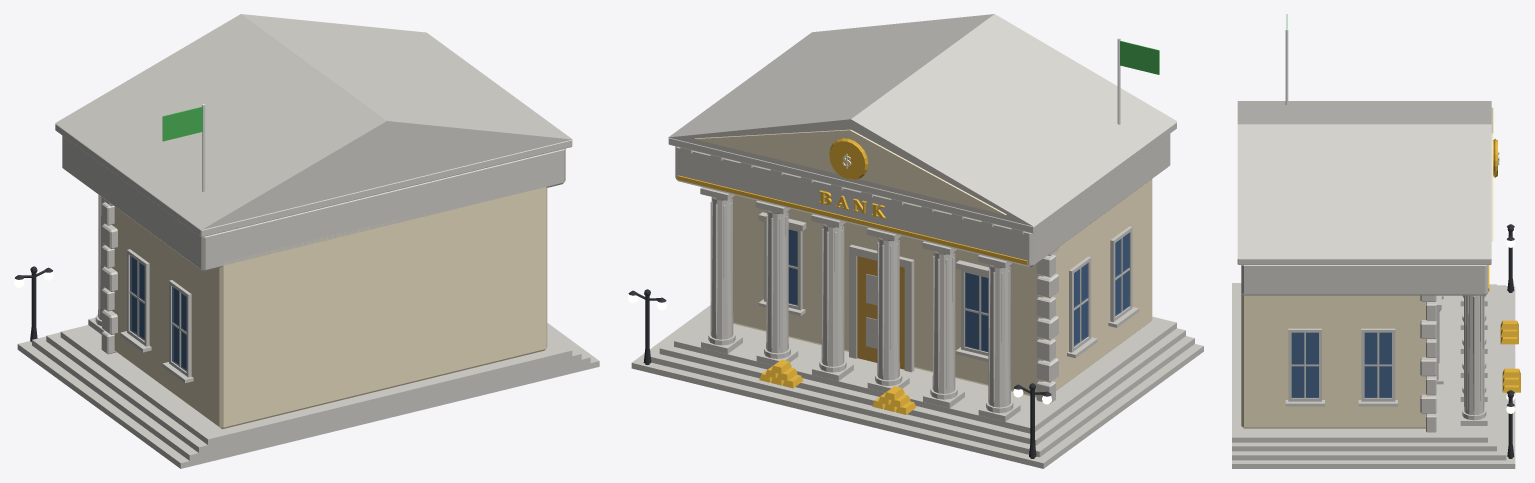
File: Bank.fbx
The picture shows the model from 3 angles, left to right: view 1: azimuth 30°, elevation 25°; view 2: azimuth 150°, elevation 25°; view 3: azimuth 270°, elevation 25°; orthographic projection. The views are drawn at different scales.
Parts seen in each view (by area): view 1: Bank_Marble, Bank_Cream, Bank_GlassDark, Bank_Green; view 2: Bank_Marble, Bank_Cream, Bank_Gold, Bank_GlassDark, Bank_Brass, Bank_Charcoal, Bank_Green; view 3: Bank_Marble, Bank_Cream, Bank_GlassDark, Bank_Gold, Bank_Charcoal.
Boxes of the visible parts, x1,y1,x2,y2 form: Bank_Marble: [17, 14, 599, 468]; Bank_Cream: [112, 187, 547, 429]; Bank_GlassDark: [130, 256, 186, 371]; Bank_Green: [162, 106, 202, 141]; Bank_Marble: [631, 14, 1203, 468]; Bank_Cream: [694, 129, 1152, 397]; Bank_Gold: [677, 138, 1027, 414]; Bank_GlassDark: [788, 229, 1129, 352]; Bank_Brass: [857, 256, 904, 369]; Bank_Charcoal: [628, 289, 1051, 458]; Bank_Green: [1120, 41, 1159, 74]; Bank_Marble: [1232, 101, 1515, 468]; Bank_Cream: [1241, 107, 1499, 428]; Bank_GlassDark: [1291, 332, 1391, 398]; Bank_Gold: [1488, 138, 1520, 392]; Bank_Charcoal: [1507, 224, 1514, 458].
Size of the model in its own units: 47.15 by 34.4 by 31.6.
